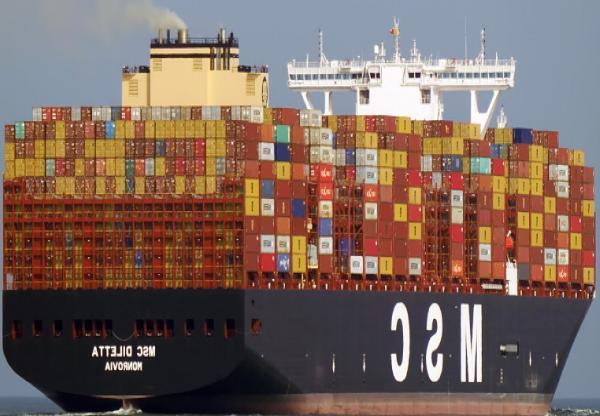Container Ship: (0, 16, 597, 415)
